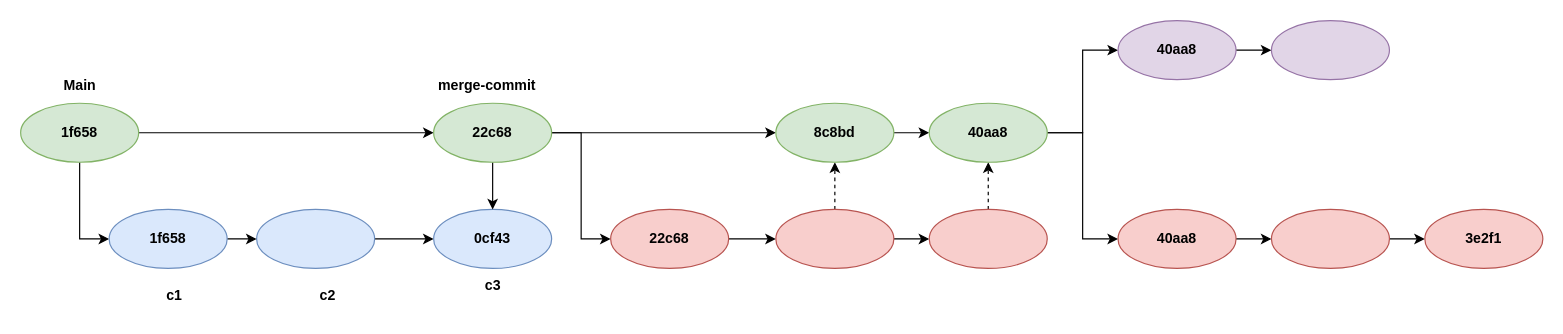
Some shapes in this 1563 by 334 pixel diagram are drawn without their labels. The centre of each missing label's shape, as x and y in pixels:
6c3dd: (x=315, y=238)
92a8f: (x=1329, y=238)
bb368: (x=987, y=238)
d16c8: (x=834, y=238)
e330e: (x=1329, y=49)
